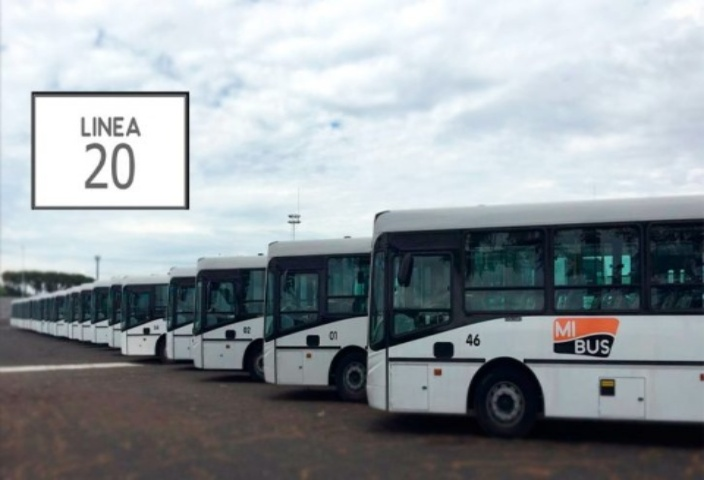bus: (353, 193, 704, 408), (260, 225, 371, 417), (188, 247, 277, 380), (112, 264, 184, 374), (160, 259, 201, 379), (105, 271, 135, 347)
